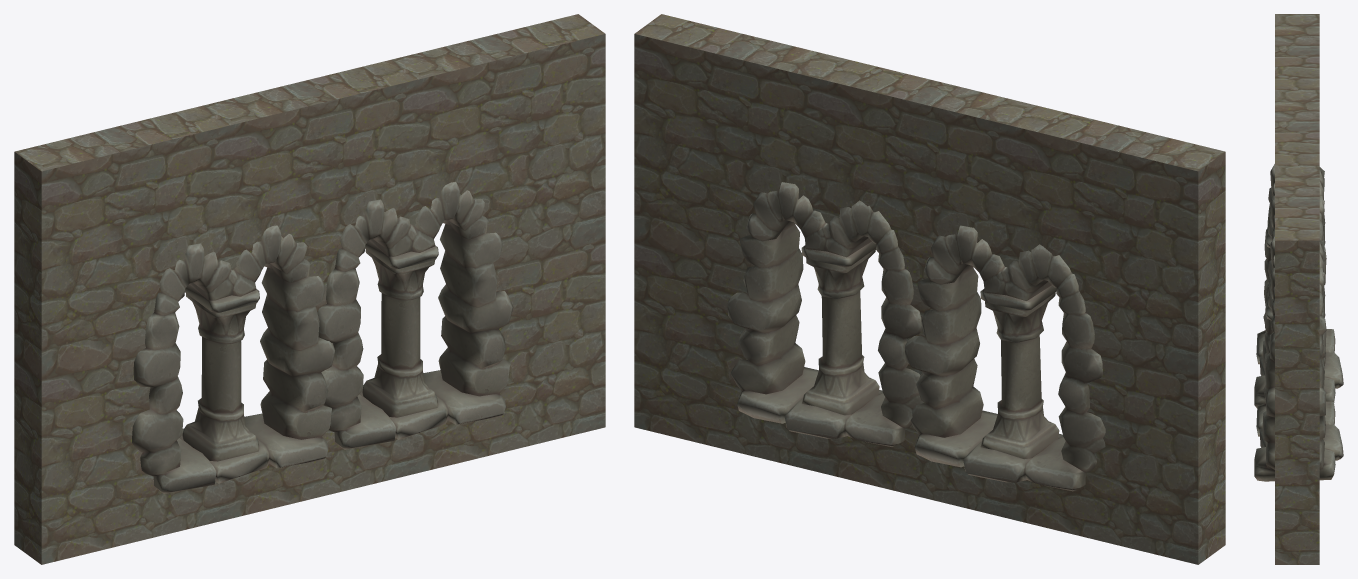
File: SM_FW01_Ruins_Int_Window_B_6x4_01.fbx
3 renders of one model, left to right at view 1: azimuth 30°, elevation 25°; view 2: azimuth 150°, elevation 25°; view 3: azimuth 270°, elevation 25°, orthographic. The views are drawn at different scales.
Visible parts, largest first — view 1: SM_FW01_Ruins_Int_Window_B_6x4_01, SM_FW01_Ruins_Int_Window_B_6x4_01_LOD0; view 2: SM_FW01_Ruins_Int_Window_B_6x4_01, SM_FW01_Ruins_Int_Window_B_6x4_01_LOD0; view 3: SM_FW01_Ruins_Int_Window_B_6x4_01, SM_FW01_Ruins_Int_Window_B_6x4_01_LOD0.
Boxes of the visible parts, bbox=[...] form: SM_FW01_Ruins_Int_Window_B_6x4_01: bbox=[14, 14, 605, 564]; SM_FW01_Ruins_Int_Window_B_6x4_01_LOD0: bbox=[132, 181, 513, 493]; SM_FW01_Ruins_Int_Window_B_6x4_01: bbox=[634, 14, 1225, 564]; SM_FW01_Ruins_Int_Window_B_6x4_01_LOD0: bbox=[727, 182, 1105, 491]; SM_FW01_Ruins_Int_Window_B_6x4_01: bbox=[1275, 14, 1319, 564]; SM_FW01_Ruins_Int_Window_B_6x4_01_LOD0: bbox=[1254, 164, 1343, 481].
Size of what is drawn, in the model's own units: 6 by 4 by 0.9997.
